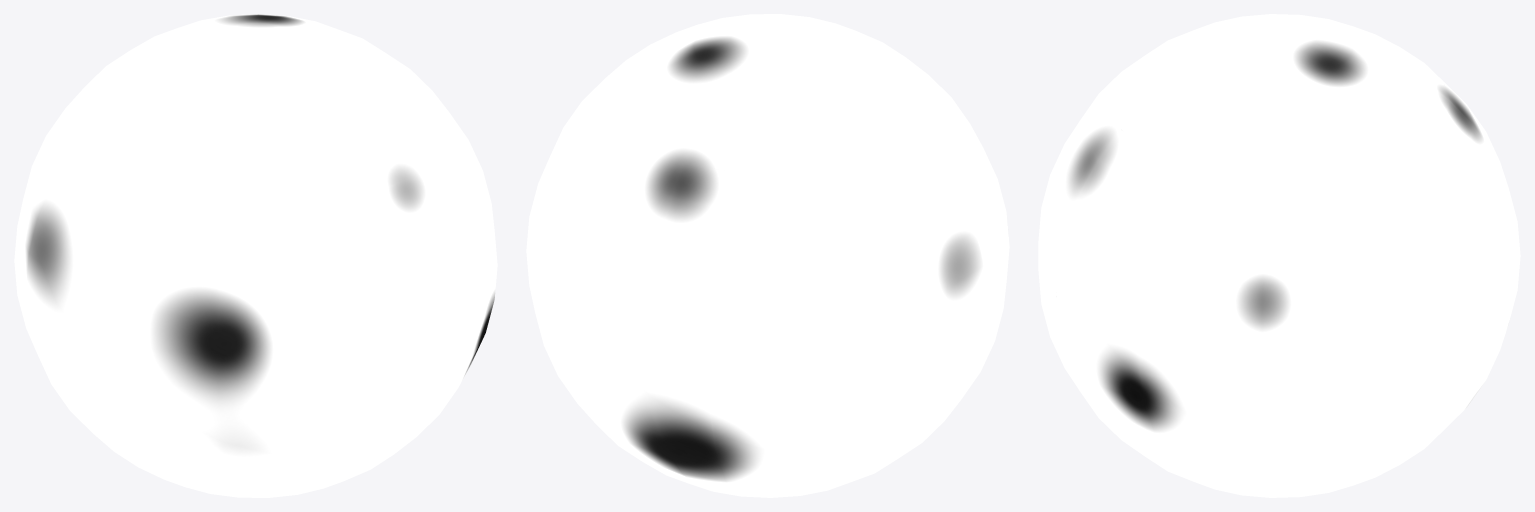
File: moon.gltf
3 views of the same model, side by side, from view 1: azimuth 30°, elevation 25°; view 2: azimuth 150°, elevation 25°; view 3: azimuth 270°, elevation 25° (orthographic).
Visible parts, largest first — view 1: Sphere; view 2: Sphere; view 3: Sphere.
Boxes of the visible parts, bbox=[...] form: Sphere: bbox=[14, 14, 497, 497]; Sphere: bbox=[526, 14, 1009, 497]; Sphere: bbox=[1038, 14, 1520, 497].
Bounding box in the file's own units: 2 × 2 × 1.99.
Materials: 1 (1 with a texture image).
